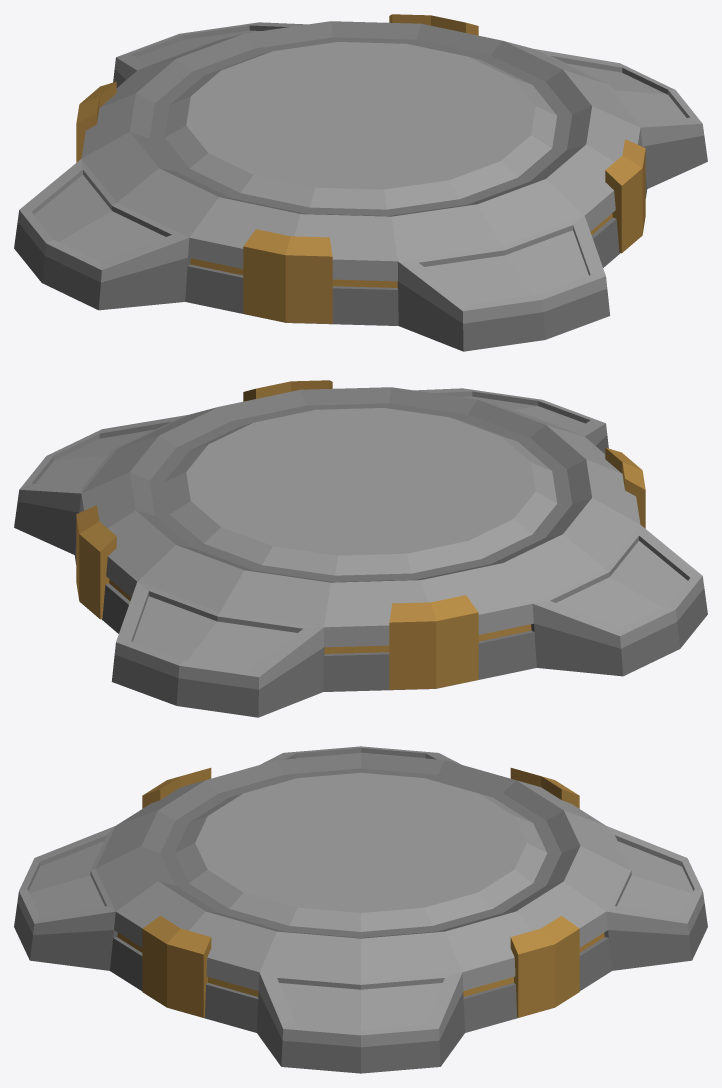
The model's file is Props_Base.glb.
3 renders of one model, top to bottom at view 1: azimuth 30°, elevation 25°; view 2: azimuth 150°, elevation 25°; view 3: azimuth 270°, elevation 25°, orthographic. The views are drawn at different scales.
Parts seen in each view (by area): view 1: Props_Base; view 2: Props_Base; view 3: Props_Base.
Part boxes in pixels (box(x1,y1,x2,y2)): Props_Base: box(14, 14, 707, 351); Props_Base: box(14, 380, 707, 717); Props_Base: box(14, 746, 707, 1073).
Size of the model in its own units: 2.4 by 0.3203 by 2.4.
